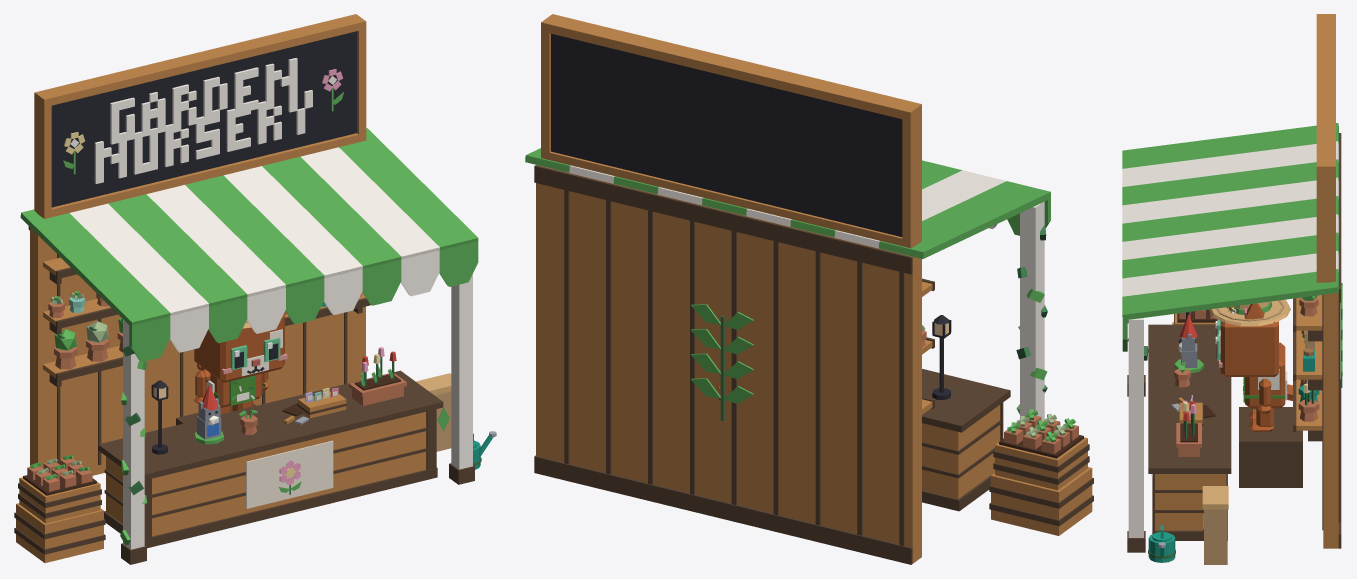
The model's file is CatCafe_Camp_Park_GardenNursery.glb.
The picture shows the model from 3 angles, left to right: view 1: azimuth 30°, elevation 25°; view 2: azimuth 150°, elevation 25°; view 3: azimuth 270°, elevation 25°; orthographic projection. The views are drawn at different scales.
Parts seen in each view (by area): view 1: CatCafe_Camp_Park_GardenNursery, CatCafe_Camp_Park_GardenNursery_Cat_Head, CatCafe_Camp_Park_GardenNursery_Cat_Body; view 2: CatCafe_Camp_Park_GardenNursery; view 3: CatCafe_Camp_Park_GardenNursery, CatCafe_Camp_Park_GardenNursery_Cat_Head, CatCafe_Camp_Park_GardenNursery_Cat_Body, CatCafe_Camp_Park_GardenNursery_Cat_Prop, CatCafe_Camp_Park_GardenNursery_Cat_LegB1, CatCafe_Camp_Park_GardenNursery_Cat_LegF1.
Part boxes in pixels (box(x1,y1,x2,y2)): CatCafe_Camp_Park_GardenNursery: box(14, 14, 496, 564); CatCafe_Camp_Park_GardenNursery_Cat_Head: box(194, 314, 287, 382); CatCafe_Camp_Park_GardenNursery_Cat_Body: box(201, 366, 265, 407); CatCafe_Camp_Park_GardenNursery: box(525, 14, 1093, 564); CatCafe_Camp_Park_GardenNursery: box(1122, 14, 1342, 564); CatCafe_Camp_Park_GardenNursery_Cat_Head: box(1219, 321, 1278, 376); CatCafe_Camp_Park_GardenNursery_Cat_Body: box(1243, 342, 1287, 408); CatCafe_Camp_Park_GardenNursery_Cat_Prop: box(1209, 299, 1290, 326); CatCafe_Camp_Park_GardenNursery_Cat_LegB1: box(1249, 408, 1273, 431); CatCafe_Camp_Park_GardenNursery_Cat_LegF1: box(1257, 380, 1271, 413).
Size of the model in its own units: 9.81 by 8.2 by 4.31.
Materials: 1 (1 with a texture image).
